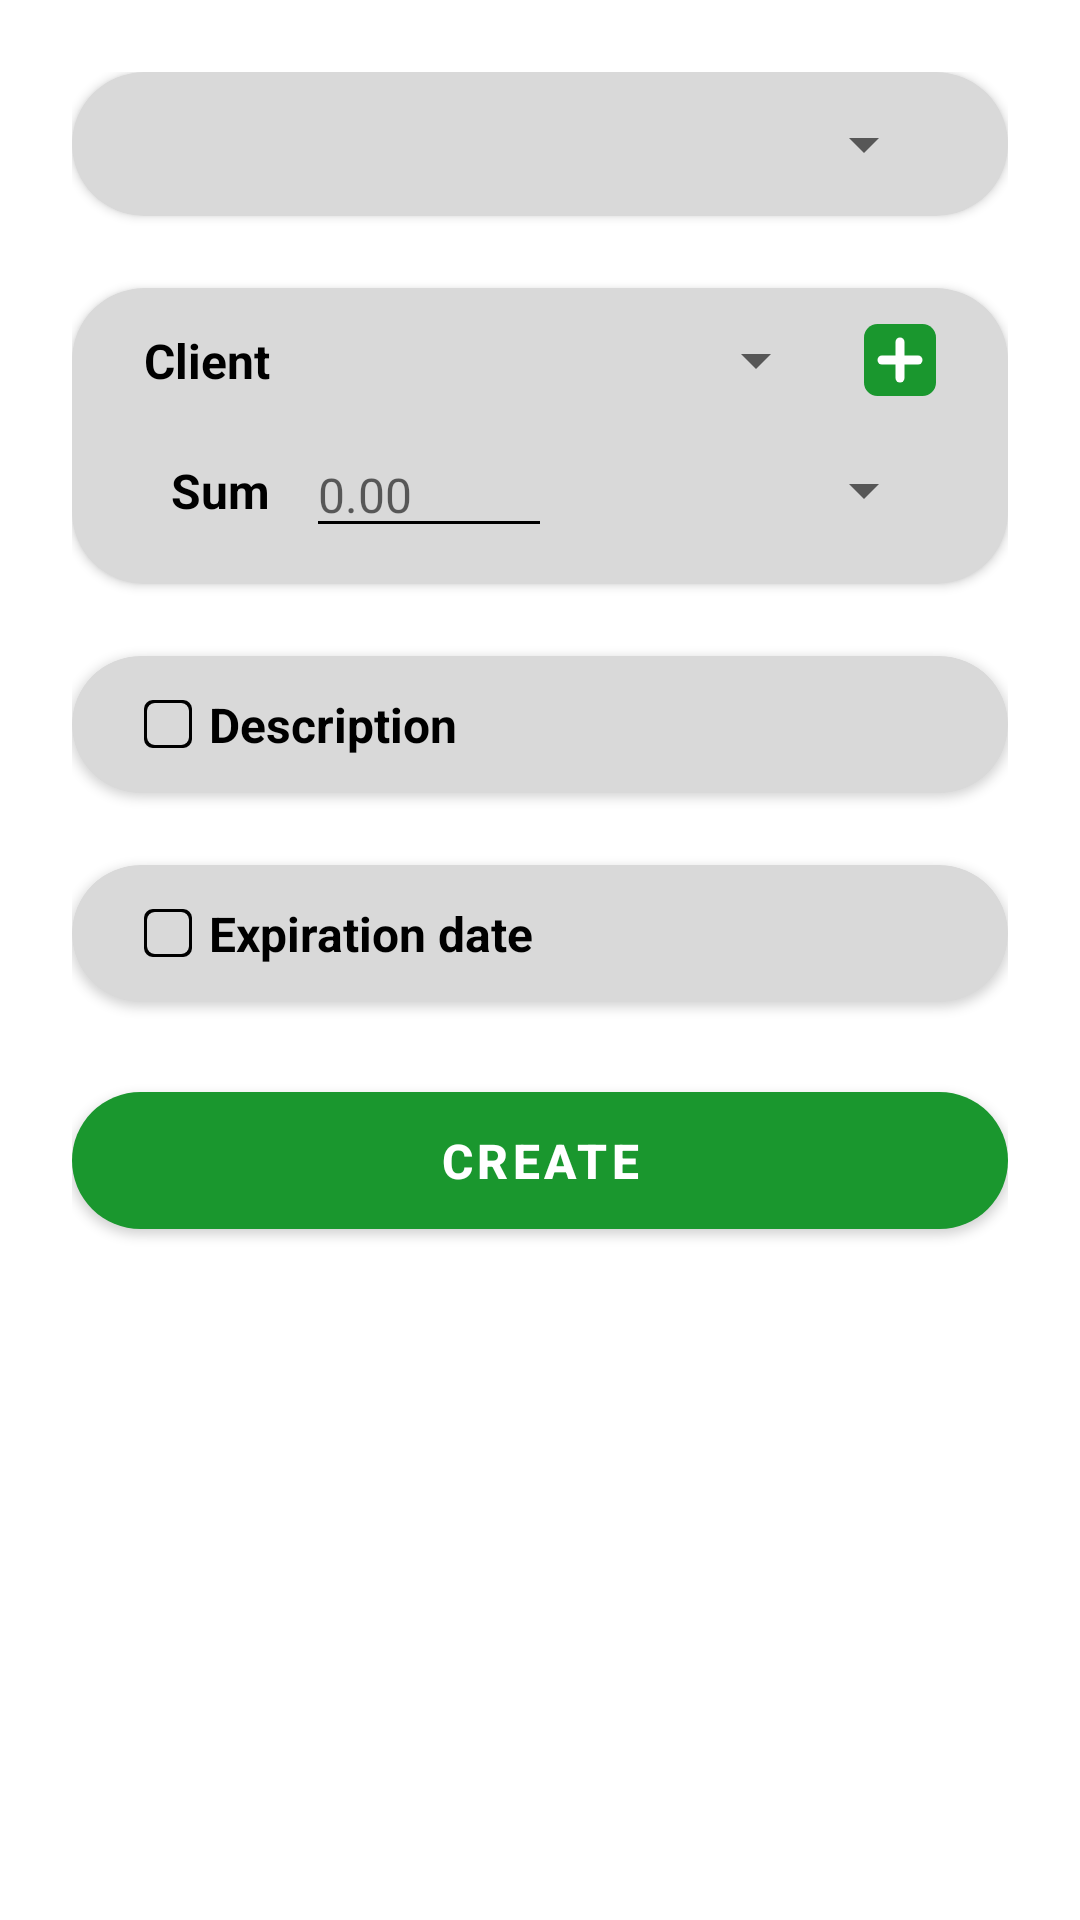

Where icons sit on this 1080×1920 app screen, as (x1, y1, x2, y2):
checkbox: (144, 700, 192, 748), (144, 909, 192, 957)
Create: (864, 324, 936, 396)
